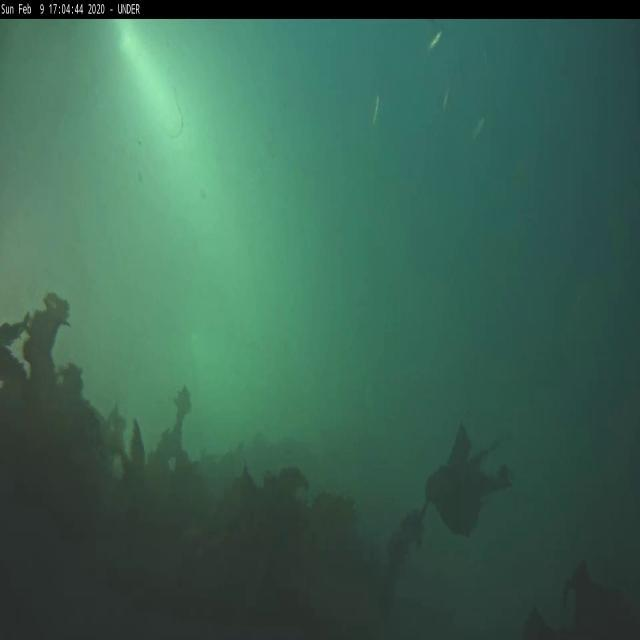fish: (370, 95, 384, 128), (470, 116, 486, 142), (440, 86, 452, 114), (430, 34, 444, 53)
